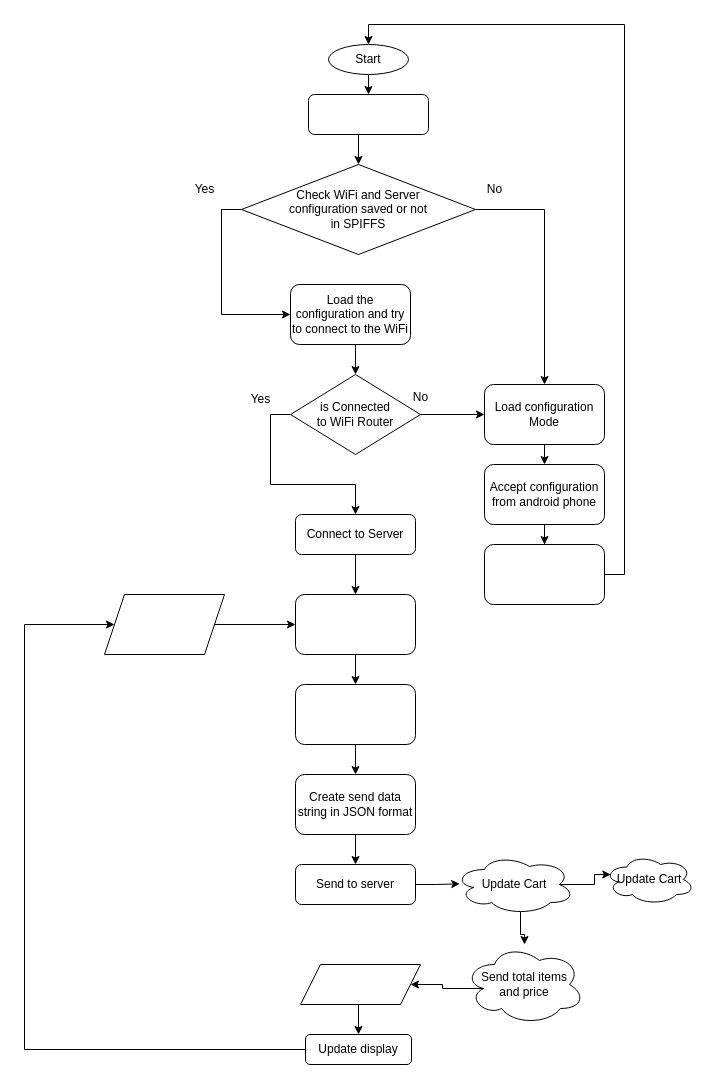
Some shapes in this 712 by 1082 pixel diagram are drawn without their labels. Here are the shapes that lost their labels. From the top down, the centre of each, then its label:
At [368,114]: "Initialize the system".
At [544,574]: "Save configuration and reset".
At [164,624]: "Add product to trolley".
At [355,624]: "Scan RFID".
At [355,714]: "Read remove button status".
At [360,984]: "Wait for server data".
